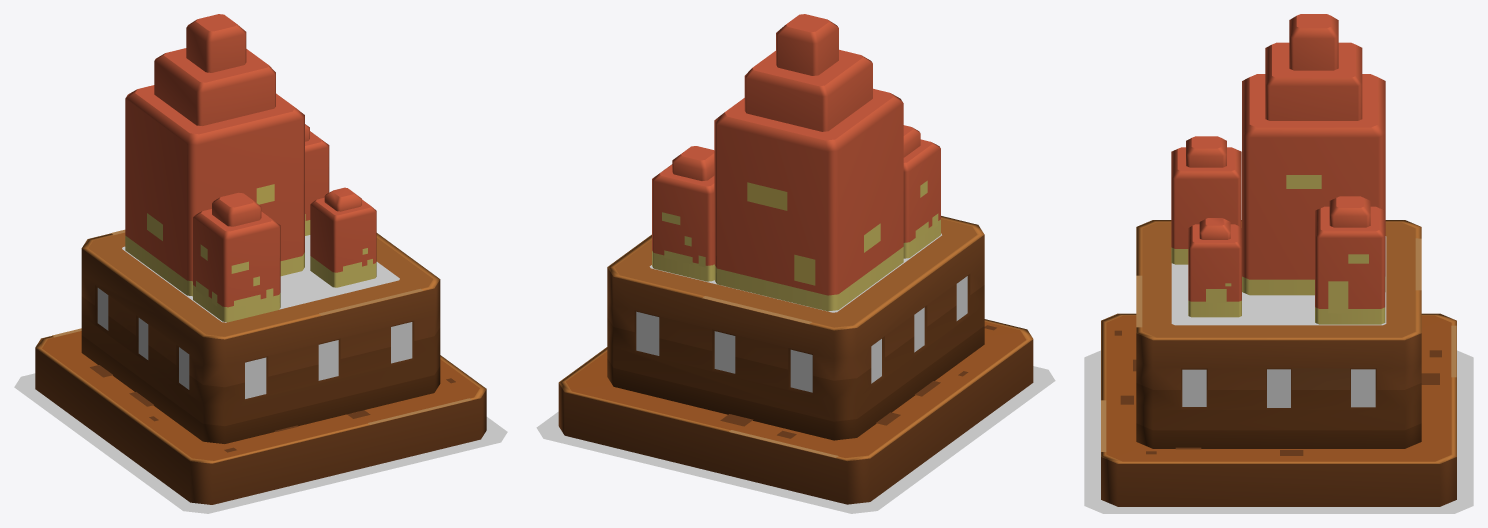
File: MG_special_torch_02.fbx
3 views of the same model, side by side, from view 1: azimuth 30°, elevation 25°; view 2: azimuth 150°, elevation 25°; view 3: azimuth 270°, elevation 25° (orthographic). The views are drawn at different scales.
Visible parts, largest first — view 1: polySurface31, polySurface32, polySurface58, polySurface50, ground, polySurface59, polySurface37, polySurface66, polySurface67, polySurface61; view 2: polySurface31, polySurface32, polySurface37, ground, polySurface58, polySurface65, polySurface64, polySurface60; view 3: polySurface31, polySurface32, polySurface37, ground, polySurface58, polySurface50, polySurface59, polySurface69, polySurface68, polySurface62.
Boxes of the visible parts, left/top/right/bottom form: polySurface31: left=35, top=229, right=486, bottom=504; polySurface32: left=125, top=14, right=304, bottom=296; polySurface58: left=193, top=192, right=280, bottom=322; polySurface50: left=310, top=187, right=376, bottom=287; ground: left=14, top=373, right=507, bottom=513; polySurface59: left=122, top=235, right=399, bottom=322; polySurface37: left=305, top=124, right=329, bottom=235; polySurface66: left=245, top=357, right=266, bottom=398; polySurface67: left=391, top=322, right=412, bottom=363; polySurface61: left=318, top=340, right=338, bottom=380; polySurface31: left=558, top=216, right=1033, bottom=504; polySurface32: left=714, top=14, right=903, bottom=311; polySurface37: left=652, top=146, right=714, bottom=281; ground: left=536, top=366, right=1055, bottom=513; polySurface58: left=903, top=125, right=940, bottom=258; polySurface65: left=636, top=311, right=659, bottom=355; polySurface64: left=790, top=349, right=812, bottom=392; polySurface60: left=714, top=331, right=735, bottom=373; polySurface31: left=1101, top=220, right=1456, bottom=506; polySurface32: left=1242, top=14, right=1385, bottom=295; polySurface37: left=1315, top=196, right=1385, bottom=324; ground: left=1084, top=350, right=1473, bottom=513; polySurface58: left=1171, top=136, right=1241, bottom=264; polySurface50: left=1188, top=218, right=1241, bottom=317; polySurface59: left=1171, top=236, right=1386, bottom=325; polySurface69: left=1351, top=369, right=1375, bottom=407; polySurface68: left=1182, top=369, right=1206, bottom=406; polySurface62: left=1267, top=369, right=1290, bottom=407.
Size of the model in its own units: 3.28 by 3.69 by 3.28.
